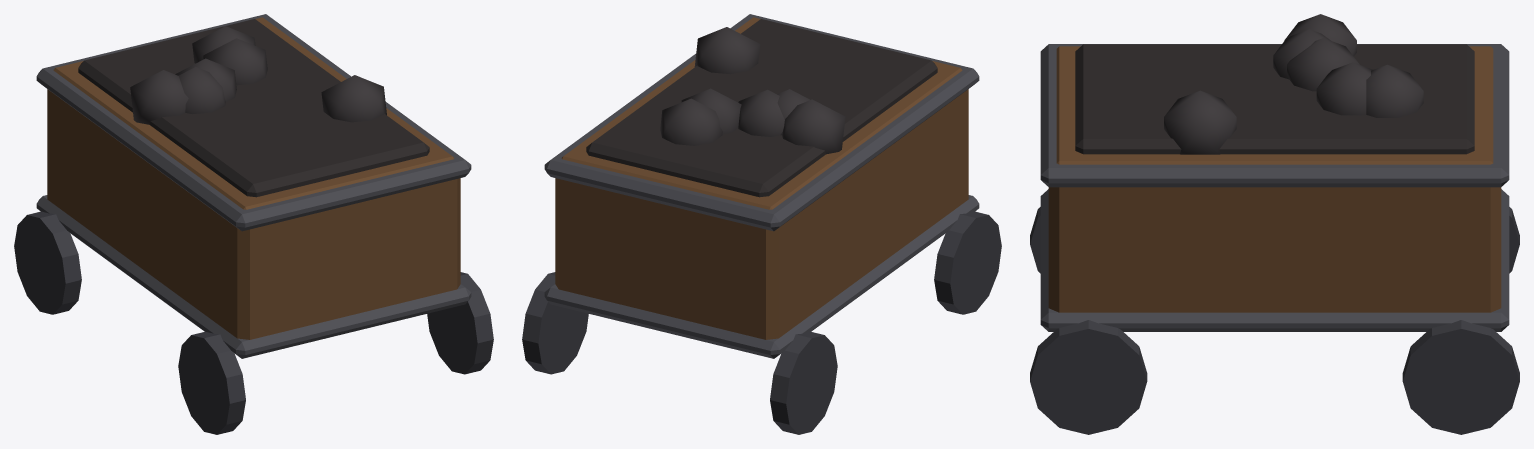
File: cart.glb
3 views of the same model, side by side, from view 1: azimuth 30°, elevation 25°; view 2: azimuth 150°, elevation 25°; view 3: azimuth 270°, elevation 25° (orthographic). The views are drawn at different scales.
Visible parts, largest first — view 1: Cube, Cube.003, Cube.002, Cube.001, Cone.001, Cone, Cone.002, Icosphere, Icosphere.005, Icosphere.001, Icosphere.004, Icosphere.002 (+1 smaller); view 2: Cube, Cube.003, Cube.002, Cube.001, Cone, Cone.001, Cone.003, Icosphere.005, Icosphere, Icosphere.002, Icosphere.003, Icosphere.001 (+1 smaller); view 3: Cube, Cube.003, Cube.002, Cube.001, Cone.002, Cone.003, Icosphere, Icosphere.002, Icosphere.001, Icosphere.003, Icosphere.005, Icosphere.004 (+2 smaller).
Part boxes in pixels (x1,y1,x2,y2): Cube: (47,17,460,339); Cube.003: (78,19,429,197); Cube.002: (36,14,471,231); Cube.001: (36,195,471,358); Cone.001: (14,211,81,314); Cone: (178,331,245,434); Cone.002: (427,272,493,374); Icosphere: (321,75,386,122); Icosphere.005: (130,70,188,124); Icosphere.001: (203,38,267,85); Icosphere.004: (178,67,225,114); Icosphere.002: (192,26,255,63); Cube: (555,17,968,339); Cube.003: (586,19,937,197); Cube.002: (544,14,979,231); Cube.001: (544,195,979,358); Cone: (934,211,1001,314); Cone.001: (770,331,837,434); Cone.003: (522,272,588,374); Icosphere.005: (782,99,845,154); Icosphere: (694,27,760,74); Icosphere.002: (660,98,722,145); Icosphere.003: (738,89,784,136); Icosphere.001: (681,88,741,133); Cube: (1048,46,1501,312); Cube.003: (1075,44,1474,154); Cube.002: (1040,44,1509,187); Cube.001: (1040,189,1509,331); Cone.002: (1030,320,1147,434); Cone.003: (1402,320,1519,434); Icosphere: (1164,90,1236,154); Icosphere.002: (1366,64,1423,117); Icosphere.001: (1316,62,1372,115); Icosphere.003: (1287,38,1359,91); Icosphere.005: (1284,14,1356,56); Icosphere.004: (1273,29,1330,79).
Size of the model in its own units: 1.3 by 1.28 by 1.84.
